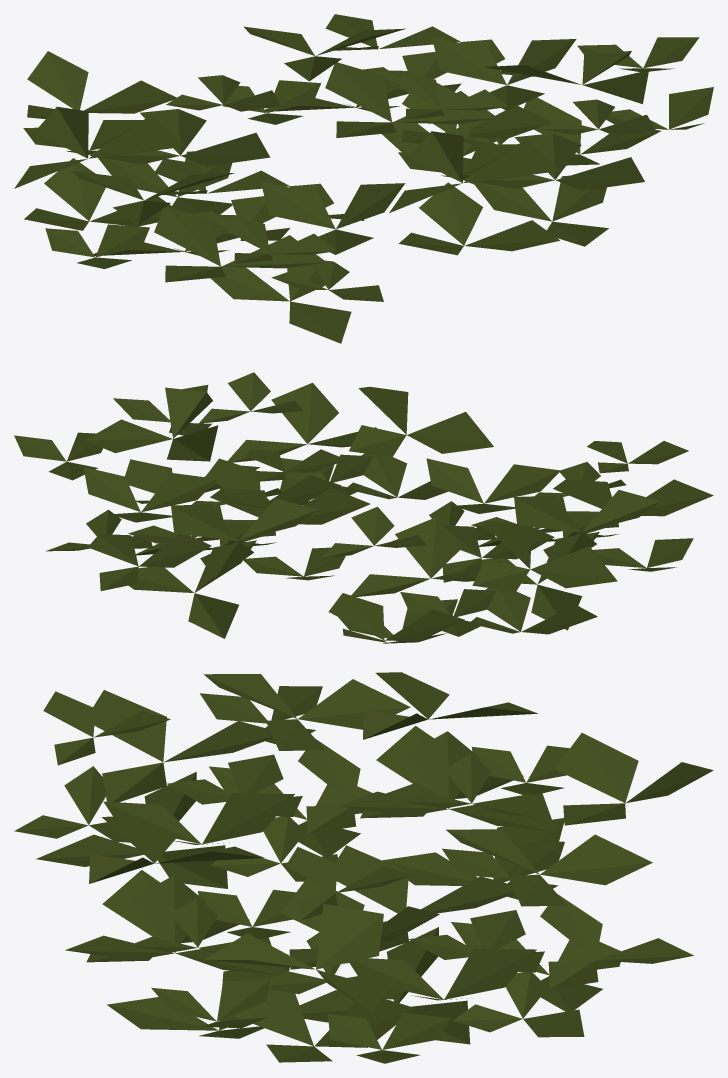
Rendered from SM_Clover_Group_A.fbx.
3 renders of one model, top to bottom at view 1: azimuth 30°, elevation 25°; view 2: azimuth 150°, elevation 25°; view 3: azimuth 270°, elevation 25°, orthographic. The views are drawn at different scales.
Parts seen in each view (by area): view 1: clover-group-a; view 2: clover-group-a; view 3: clover-group-a.
Boxes of the visible parts, x1,y1,x2,y2 form: clover-group-a: [14, 14, 713, 343]; clover-group-a: [14, 372, 713, 643]; clover-group-a: [14, 672, 713, 1063].
Bounding box in the file's own units: 0.895 × 0.1501 × 0.6787.
